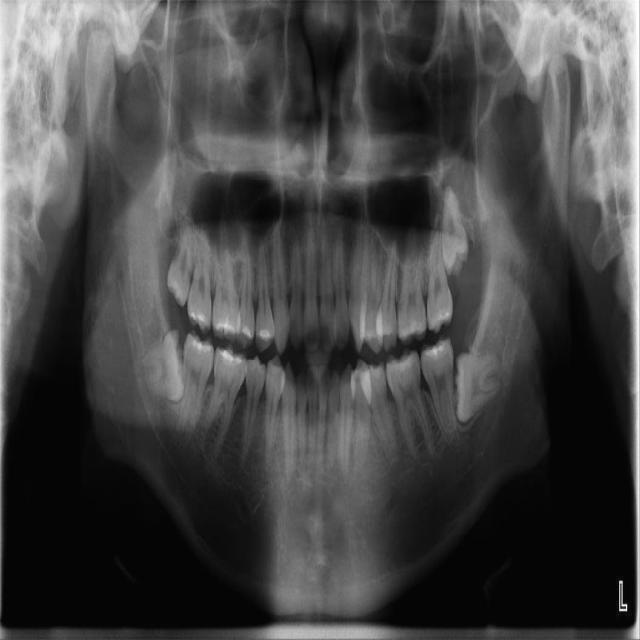Filling: (190, 337, 210, 352), (189, 311, 205, 328), (428, 341, 443, 357), (221, 352, 239, 365), (258, 327, 270, 341), (226, 325, 236, 337), (243, 326, 251, 340), (215, 320, 225, 331)
impacted tooth: (129, 328, 184, 400), (454, 352, 502, 423), (441, 181, 466, 273)
